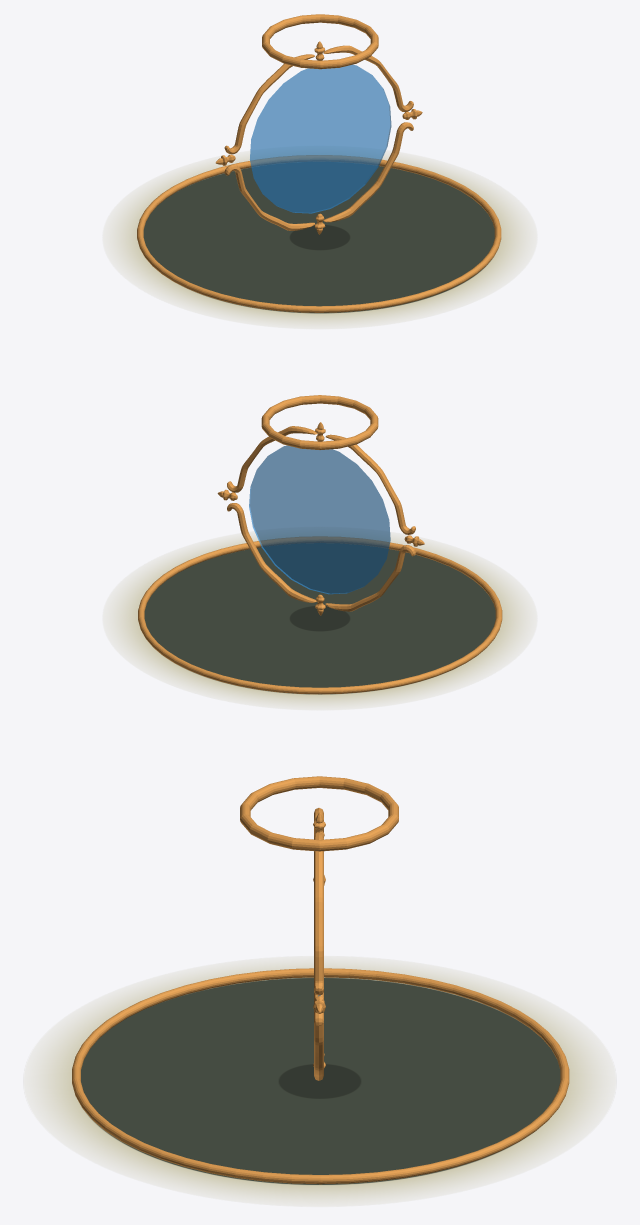
The model's file is ring.gltf.
The picture shows the model from 3 angles, top to bottom: view 1: azimuth 30°, elevation 25°; view 2: azimuth 150°, elevation 25°; view 3: azimuth 270°, elevation 25°; orthographic projection. The views are drawn at different scales.
Parts seen in each view (by area): view 1: Ground, Portal, Bottom_Ring, Inner_Ring, Top_Ring; view 2: Ground, Portal, Bottom_Ring, Inner_Ring, Top_Ring; view 3: Ground, Bottom_Ring, Top_Ring, Inner_Ring.
Part boxes in pixels (x1,y1,x2,y2): Ground: (103,147,536,328); Portal: (250,64,391,213); Bottom_Ring: (137,155,501,312); Inner_Ring: (224,45,413,230); Top_Ring: (262,14,378,69); Ground: (103,528,536,710); Portal: (249,445,390,594); Bottom_Ring: (138,536,502,694); Inner_Ring: (227,426,415,611); Top_Ring: (261,395,378,449); Ground: (23,956,616,1206); Bottom_Ring: (72,968,569,1184); Top_Ring: (240,776,398,851); Inner_Ring: (314,808,323,1080).
Bounding box in the file's own units: 12.13 × 5.97 × 12.13.
Materials: 4 (1 with a texture image).
